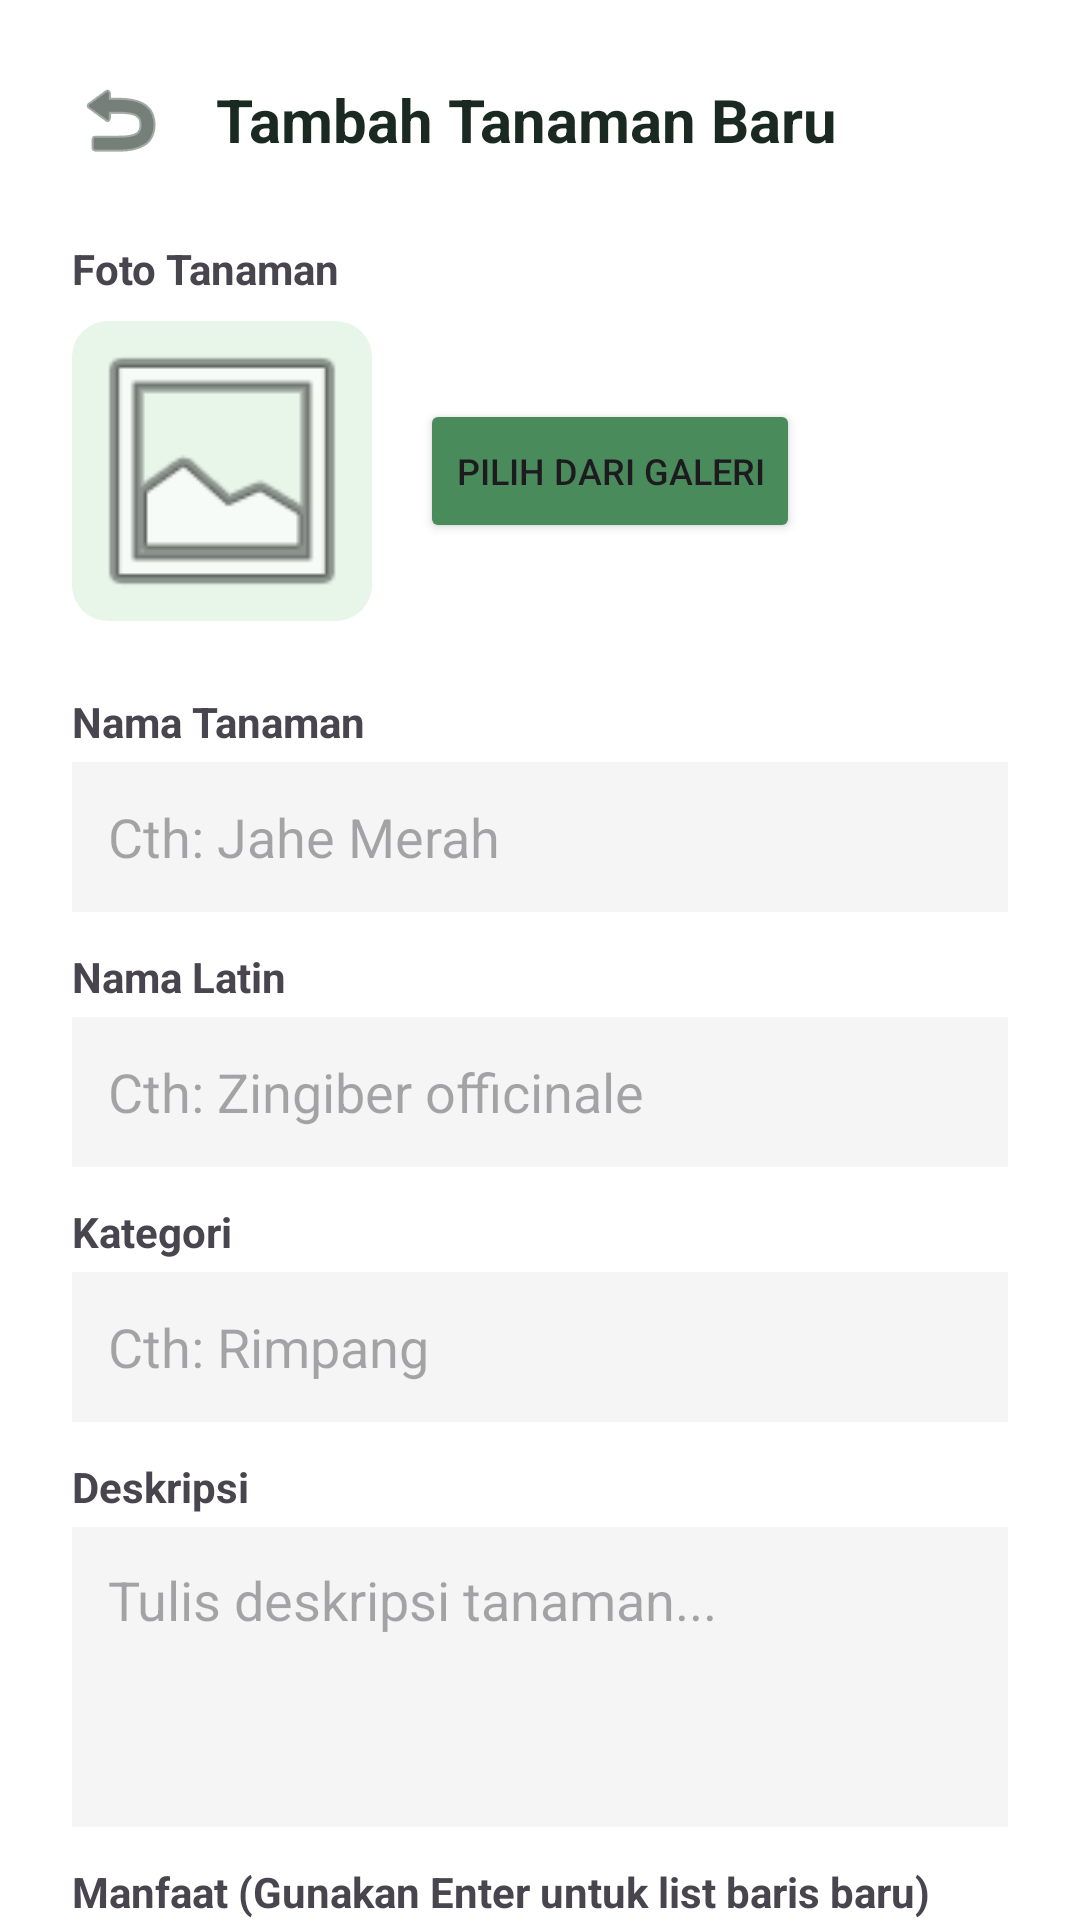

Where to tap for icons on this 1080 x 1920 app screen, as (x,y):
gallery: (222,471)
revert: (121,120)
